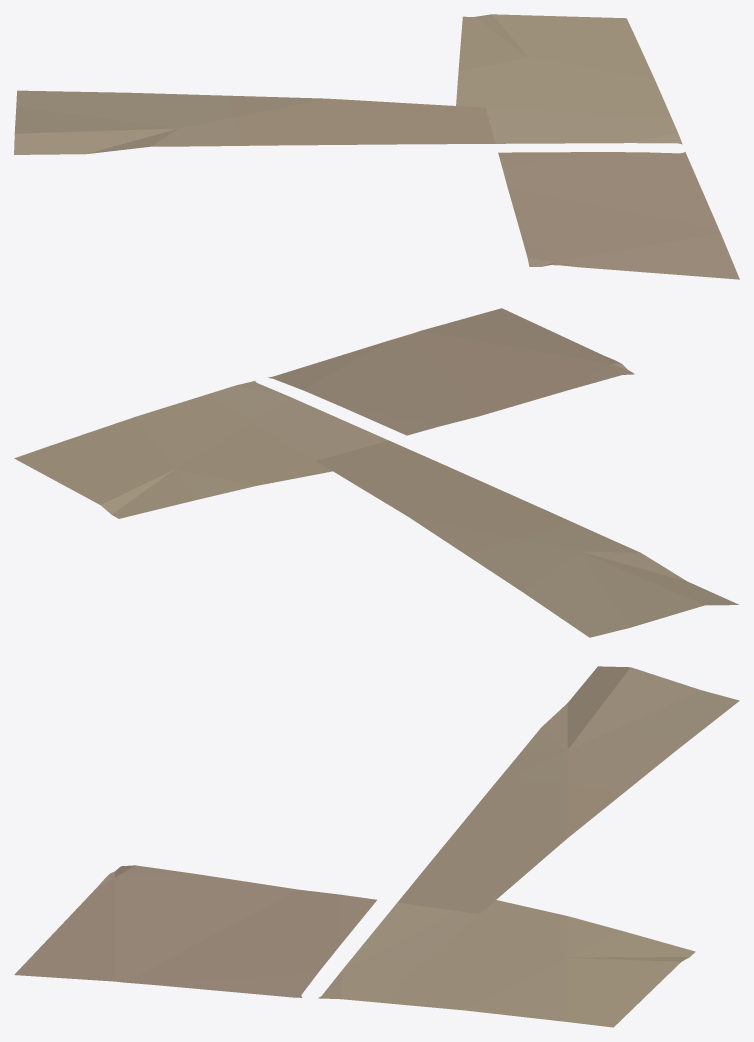
The model's file is farm_-12_2_soil.glb.
3 renders of one model, top to bottom at view 1: azimuth 30°, elevation 25°; view 2: azimuth 150°, elevation 25°; view 3: azimuth 270°, elevation 25°, orthographic. The views are drawn at different scales.
Visible parts, largest first — view 1: geometry_0; view 2: geometry_0; view 3: geometry_0.
Part boxes in pixels (<box>): geometry_0: <box>14,14,739,279</box>; geometry_0: <box>14,308,738,637</box>; geometry_0: <box>14,666,739,1027</box>.
Bounding box in the file's own units: 284 × 23.87 × 256.
